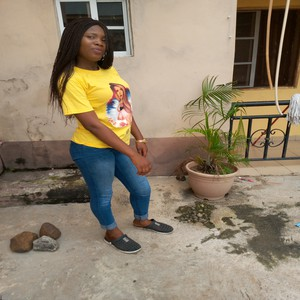Fulokoja_female_student: (61, 19, 157, 239)
